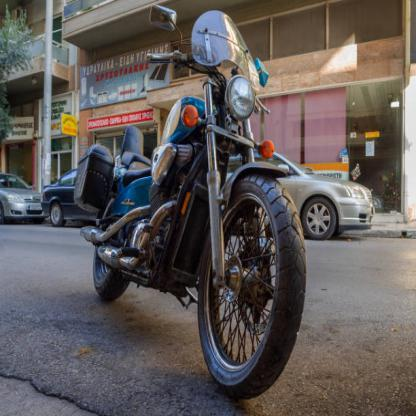Motorcycle: (82, 0, 309, 415)
